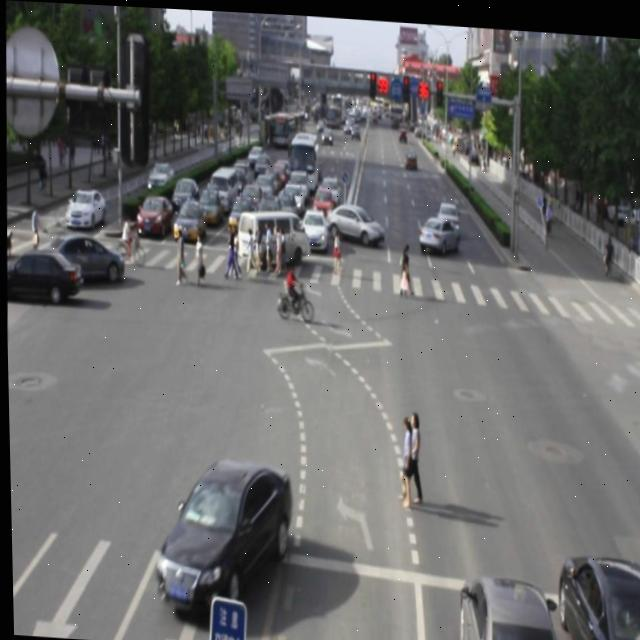car: (153, 448, 293, 614), (553, 540, 640, 640), (452, 565, 559, 640)
truck: (235, 201, 311, 267)
